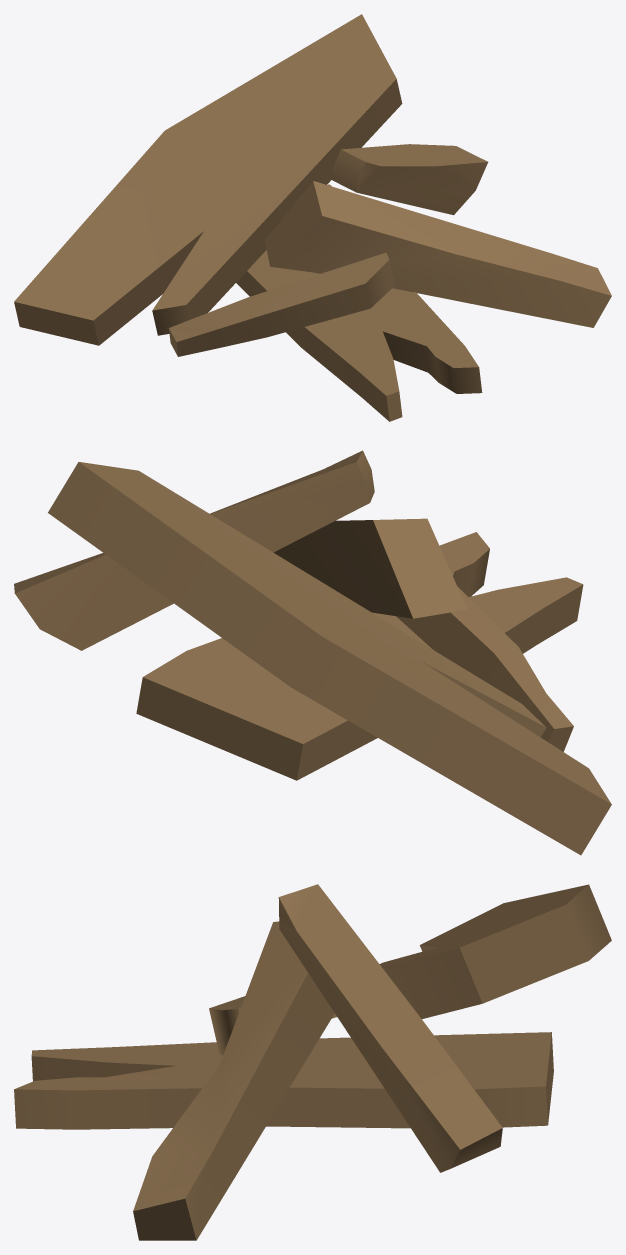
Rendered from kucha_small_Lv0.fbx.
3 renders of one model, top to bottom at view 1: azimuth 30°, elevation 25°; view 2: azimuth 150°, elevation 25°; view 3: azimuth 270°, elevation 25°, orthographic. The views are drawn at different scales.
Visible parts, largest first — view 1: kucha_small_low; view 2: kucha_small_low; view 3: kucha_small_low.
Boxes of the visible parts, x1,y1,x2,y2 form: kucha_small_low: [14, 14, 611, 421]; kucha_small_low: [14, 450, 611, 855]; kucha_small_low: [14, 884, 611, 1240].
Bounding box in the file's own units: 62.9 × 28.77 × 52.21.
